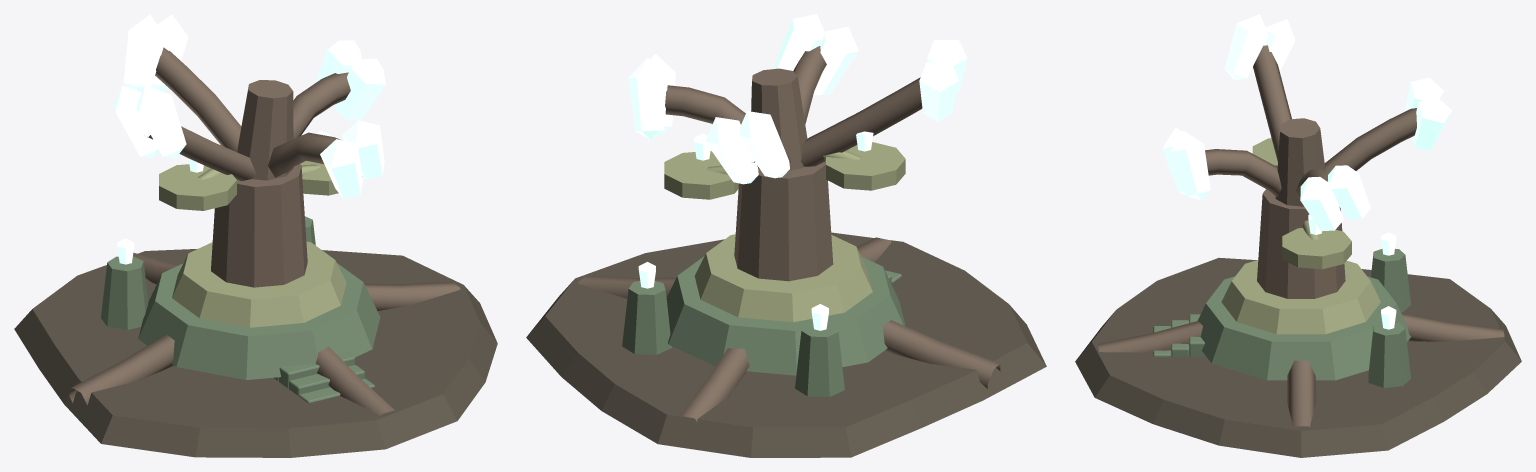
File: ancient-jungle-lod2.glb
3 renders of one model, left to right at view 1: azimuth 30°, elevation 25°; view 2: azimuth 150°, elevation 25°; view 3: azimuth 270°, elevation 25°, orthographic. The views are drawn at different scales.
Parts seen in each view (by area): view 1: STONE_TERRAIN_SOCKET, STONE_TEMPLE_TERRACE_LOWER, ORGANIC_TRUNK_LOWER, TRIM_TEMPLE_TERRACE_UPPER, ORGANIC_TRUNK_UPPER, FX_FOLIAGE_BRANCH_1, STONE_ROOT_SHRINE_1, STONE_CANOPY_PLATFORM_1, ORGANIC_BUTTRESS_ROOT_2, FX_FOLIAGE_BLADE_1_1, FX_FOLIAGE_BLADE_2_1, ORGANIC_BUTTRESS_ROOT_3 (+14 smaller); view 2: STONE_TERRAIN_SOCKET, STONE_TEMPLE_TERRACE_LOWER, ORGANIC_TRUNK_LOWER, TRIM_TEMPLE_TERRACE_UPPER, FX_FOLIAGE_BRANCH_2, ORGANIC_TRUNK_UPPER, STONE_ROOT_SHRINE_1, STONE_ROOT_SHRINE_0, ORGANIC_BUTTRESS_ROOT_2, STONE_CANOPY_PLATFORM_1, STONE_CANOPY_PLATFORM_0, FX_FOLIAGE_BLADE_0_1 (+11 smaller); view 3: STONE_TERRAIN_SOCKET, STONE_TEMPLE_TERRACE_LOWER, TRIM_TEMPLE_TERRACE_UPPER, ORGANIC_TRUNK_LOWER, ORGANIC_TRUNK_UPPER, FX_FOLIAGE_BRANCH_1, STONE_ROOT_SHRINE_0, STONE_CANOPY_PLATFORM_0, FX_FOLIAGE_BRANCH_2, FX_FOLIAGE_BRANCH_3, FX_FOLIAGE_BLADE_3_1, ORGANIC_BUTTRESS_ROOT_1 (+11 smaller).
Part boxes in pixels (x1=…): STONE_TERRAIN_SOCKET: x1=14, y1=249, x2=497, y2=457; STONE_TEMPLE_TERRACE_LOWER: x1=138, y1=263, x2=380, y2=379; ORGANIC_TRUNK_LOWER: x1=211, y1=164, x2=307, y2=287; TRIM_TEMPLE_TERRACE_UPPER: x1=172, y1=241, x2=346, y2=327; ORGANIC_TRUNK_UPPER: x1=237, y1=80, x2=293, y2=180; FX_FOLIAGE_BRANCH_1: x1=155, y1=47, x2=241, y2=151; STONE_ROOT_SHRINE_1: x1=101, y1=256, x2=148, y2=329; STONE_CANOPY_PLATFORM_1: x1=159, y1=164, x2=236, y2=210; ORGANIC_BUTTRESS_ROOT_2: x1=69, y1=334, x2=174, y2=405; FX_FOLIAGE_BLADE_1_1: x1=124, y1=15, x2=166, y2=91; FX_FOLIAGE_BLADE_2_1: x1=136, y1=86, x2=186, y2=157; ORGANIC_BUTTRESS_ROOT_3: x1=315, y1=346, x2=395, y2=415; STONE_TERRAIN_SOCKET: x1=526, y1=232, x2=1046, y2=457; STONE_TEMPLE_TERRACE_LOWER: x1=666, y1=256, x2=905, y2=375; ORGANIC_TRUNK_LOWER: x1=734, y1=161, x2=833, y2=281; TRIM_TEMPLE_TERRACE_UPPER: x1=694, y1=234, x2=872, y2=322; FX_FOLIAGE_BRANCH_2: x1=800, y1=77, x2=922, y2=166; ORGANIC_TRUNK_UPPER: x1=751, y1=68, x2=807, y2=171; STONE_ROOT_SHRINE_1: x1=795, y1=323, x2=844, y2=396; STONE_ROOT_SHRINE_0: x1=622, y1=281, x2=671, y2=354; ORGANIC_BUTTRESS_ROOT_2: x1=882, y1=320, x2=1000, y2=388; STONE_CANOPY_PLATFORM_1: x1=826, y1=142, x2=905, y2=190; STONE_CANOPY_PLATFORM_0: x1=664, y1=151, x2=738, y2=199; FX_FOLIAGE_BLADE_0_1: x1=628, y1=57, x2=667, y2=139; STONE_TERRAIN_SOCKET: x1=1075, y1=257, x2=1521, y2=457; STONE_TEMPLE_TERRACE_LOWER: x1=1197, y1=276, x2=1410, y2=380; TRIM_TEMPLE_TERRACE_UPPER: x1=1221, y1=260, x2=1380, y2=334; ORGANIC_TRUNK_LOWER: x1=1257, y1=189, x2=1345, y2=298; ORGANIC_TRUNK_UPPER: x1=1275, y1=118, x2=1325, y2=206; FX_FOLIAGE_BRANCH_1: x1=1324, y1=108, x2=1416, y2=173; STONE_ROOT_SHRINE_0: x1=1368, y1=322, x2=1410, y2=387; STONE_CANOPY_PLATFORM_0: x1=1282, y1=228, x2=1351, y2=269; FX_FOLIAGE_BRANCH_2: x1=1253, y1=45, x2=1291, y2=161; FX_FOLIAGE_BRANCH_3: x1=1205, y1=149, x2=1281, y2=196; FX_FOLIAGE_BLADE_3_1: x1=1170, y1=131, x2=1210, y2=200; ORGANIC_BUTTRESS_ROOT_1: x1=1401, y1=313, x2=1504, y2=341.
Size of the model in its own units: 1.72 by 1.23 by 1.74.
